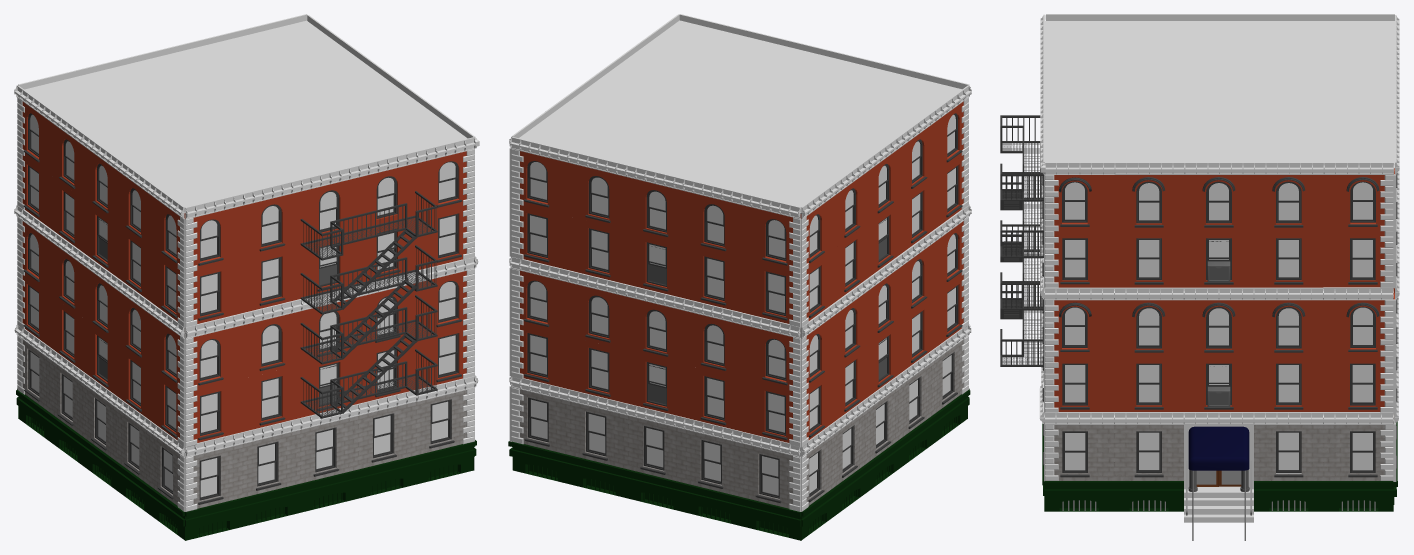
Rendered from Sketchfab_2021_12_22_00_34_40.fbx.
3 renders of one model, left to right at view 1: azimuth 30°, elevation 25°; view 2: azimuth 150°, elevation 25°; view 3: azimuth 270°, elevation 25°, orthographic. The views are drawn at different scales.
Visible parts, largest first — view 1: Roof, Plane.043, Plane.081, Plane.005, Plane.141, Plane.032, Plane.143, Plane.063, Plane.020, Plane.147, Plane.049, Plane.145 (+66 smaller); view 2: Roof, Plane.248, Plane.245, Plane.291, Plane.249, Plane.247, Plane.269, Plane.267, Plane.265, Plane.268, Plane.250, Plane.287 (+59 smaller); view 3: Roof, FrontDoor, Window_GroundFloor, Plane.059, Plane.071, Plane.003, WallSquareWindow, Plane.096, WallFirstFloor, Plane.011, Plane.072, WallRoundWindow (+57 smaller).
Part boxes in pixels (left/top/right/bottom): Roof: left=24, top=20, right=467, bottom=212; Plane.043: left=300, top=416, right=358, bottom=483; Plane.081: left=242, top=430, right=300, bottom=497; Plane.005: left=300, top=191, right=437, bottom=260; Plane.141: left=243, top=245, right=300, bottom=312; Plane.032: left=358, top=402, right=415, bottom=469; Plane.143: left=243, top=191, right=300, bottom=259; Plane.063: left=243, top=311, right=300, bottom=378; Plane.020: left=243, top=365, right=300, bottom=431; Plane.147: left=358, top=163, right=416, bottom=228; Plane.049: left=300, top=349, right=437, bottom=418; Plane.145: left=300, top=177, right=358, bottom=243; Roof: left=519, top=20, right=961, bottom=212; Plane.248: left=627, top=231, right=685, bottom=298; Plane.245: left=569, top=217, right=627, bottom=284; Plane.291: left=570, top=402, right=628, bottom=469; Plane.249: left=627, top=177, right=685, bottom=244; Plane.247: left=569, top=163, right=627, bottom=230; Plane.269: left=627, top=297, right=685, bottom=364; Plane.267: left=569, top=283, right=627, bottom=350; Plane.265: left=569, top=336, right=627, bottom=403; Plane.268: left=627, top=350, right=685, bottom=417; Plane.250: left=685, top=245, right=742, bottom=312; Plane.287: left=686, top=430, right=743, bottom=497; Roof: left=1045, top=21, right=1394, bottom=168; FrontDoor: left=1184, top=425, right=1253, bottom=540; Window_GroundFloor: left=1044, top=425, right=1114, bottom=511; Plane.059: left=1114, top=231, right=1183, bottom=287; Plane.071: left=1254, top=231, right=1323, bottom=287; Plane.003: left=1114, top=356, right=1183, bottom=411; WallSquareWindow: left=1254, top=356, right=1323, bottom=411; Plane.096: left=1114, top=425, right=1183, bottom=480; WallFirstFloor: left=1254, top=425, right=1323, bottom=480; Plane.011: left=1184, top=300, right=1253, bottom=356; Plane.072: left=1254, top=175, right=1323, bottom=231; WallRoundWindow: left=1254, top=300, right=1323, bottom=356.
Size of the model in its own units: 1895 by 1704 by 1762.
